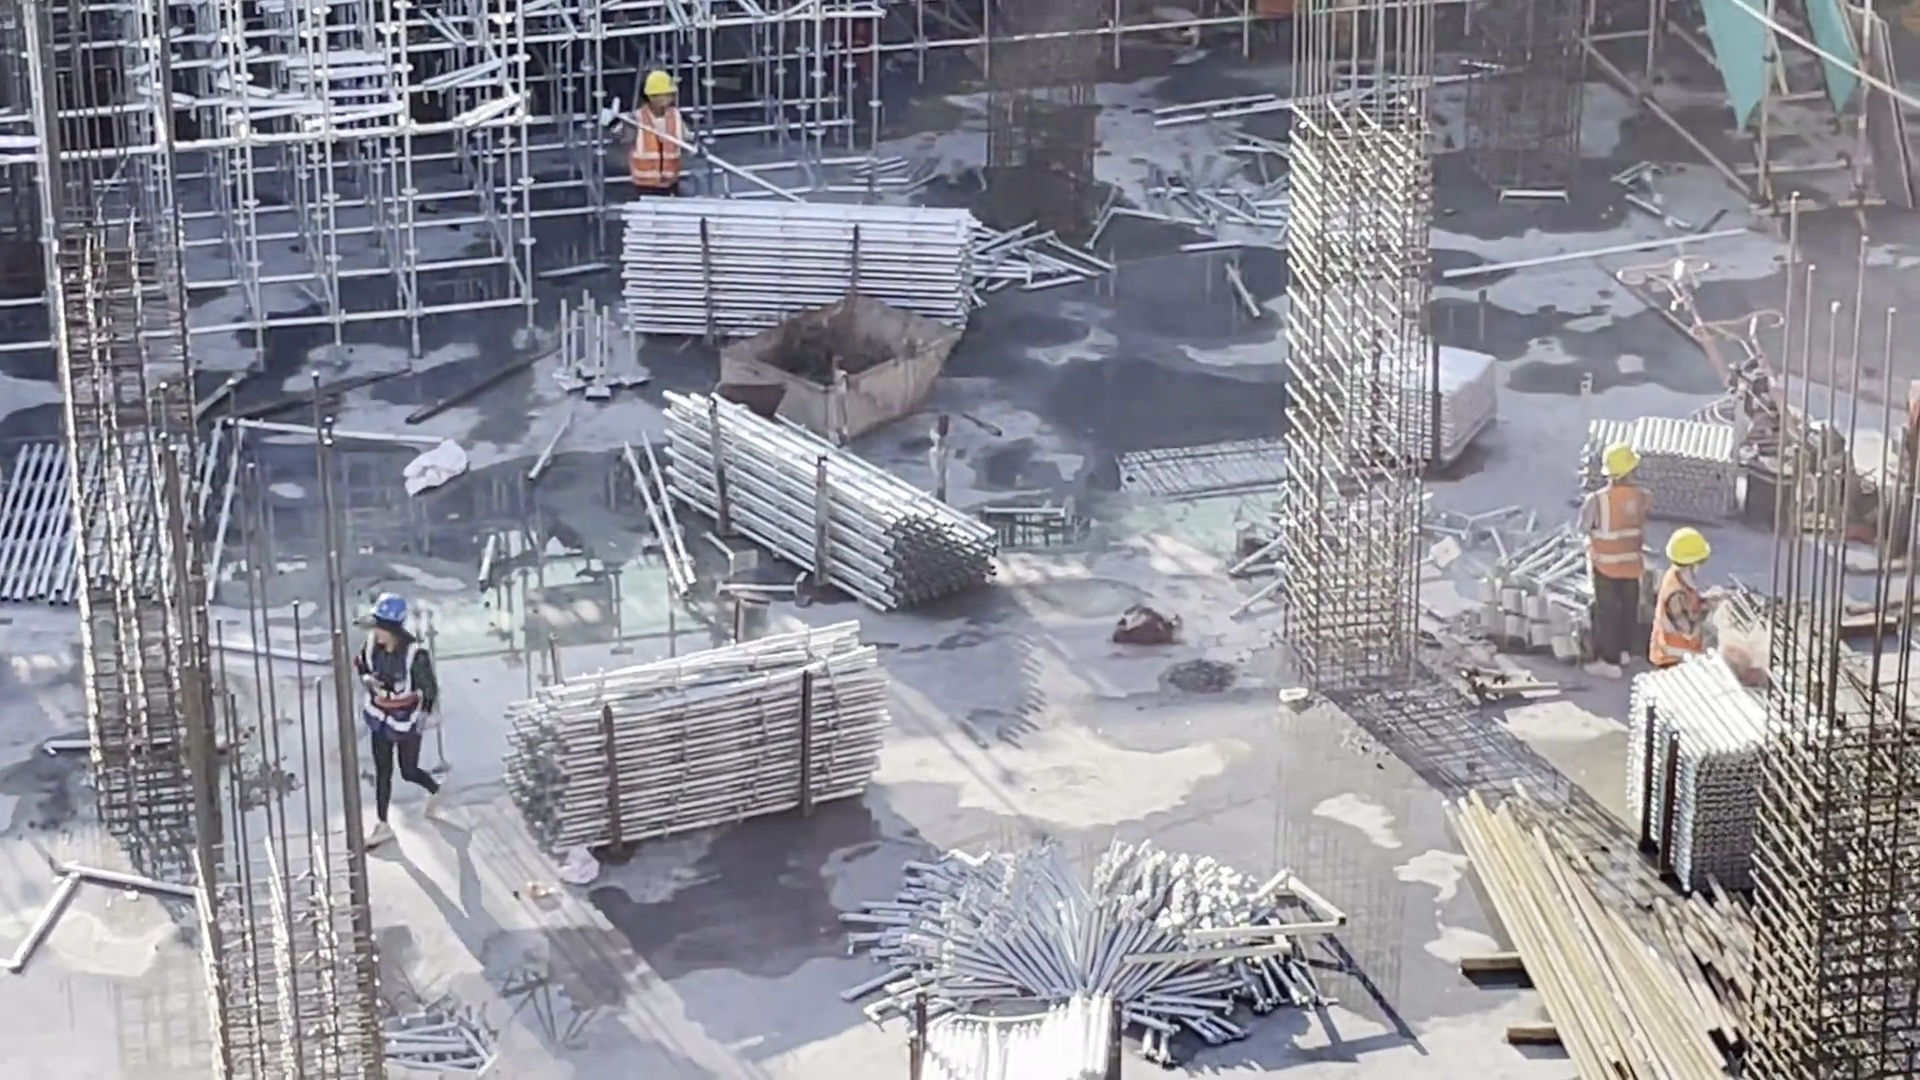helmet: (1673, 526, 1714, 568), (1604, 446, 1645, 485), (375, 594, 412, 630), (644, 75, 681, 101)
hopper: (725, 289, 949, 449)
person: (355, 597, 469, 846), (1595, 446, 1647, 683), (610, 72, 700, 200), (1654, 531, 1717, 686)
scaffold: (656, 379, 987, 622), (866, 855, 1321, 1019), (504, 632, 882, 821), (614, 176, 978, 356), (1614, 652, 1797, 907), (1337, 327, 1504, 459), (1580, 407, 1748, 536), (909, 990, 1125, 1080)
vest: (360, 633, 442, 740), (623, 105, 686, 187), (1652, 576, 1701, 664), (1599, 489, 1647, 576)
